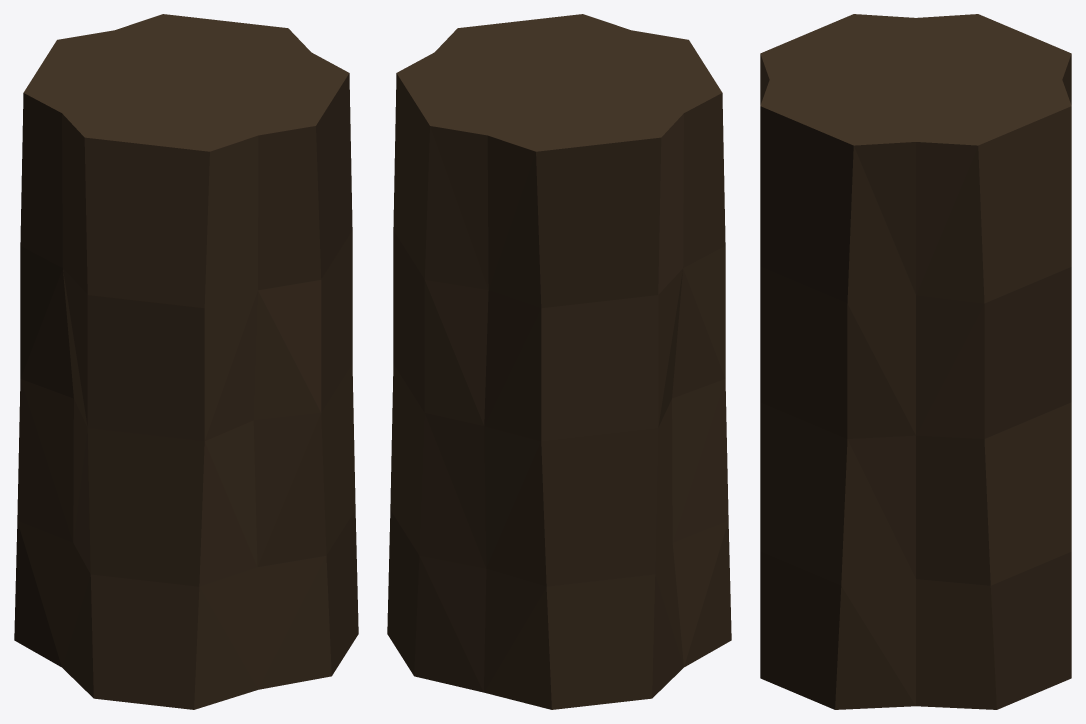
Rendered from Section_2.glb.
3 renders of one model, left to right at view 1: azimuth 30°, elevation 25°; view 2: azimuth 150°, elevation 25°; view 3: azimuth 270°, elevation 25°, orthographic.
Visible parts, largest first — view 1: Section; view 2: Section; view 3: Section.
Boxes of the visible parts, <box> form: Section: <box>14,14,358,709</box>; Section: <box>387,14,731,709</box>; Section: <box>760,14,1071,709</box>.
Bounding box in the file's own units: 2 × 4 × 2.
